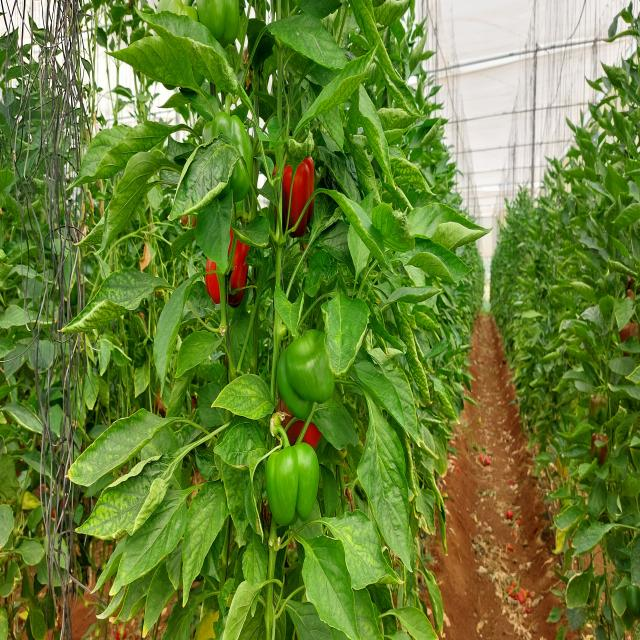Green--Not-ready-to-harvest: (277, 329, 335, 417), (266, 443, 319, 527), (204, 116, 252, 202)
Red-Ready-to-Harvest: (271, 154, 314, 241), (204, 228, 250, 307), (276, 397, 324, 449)
